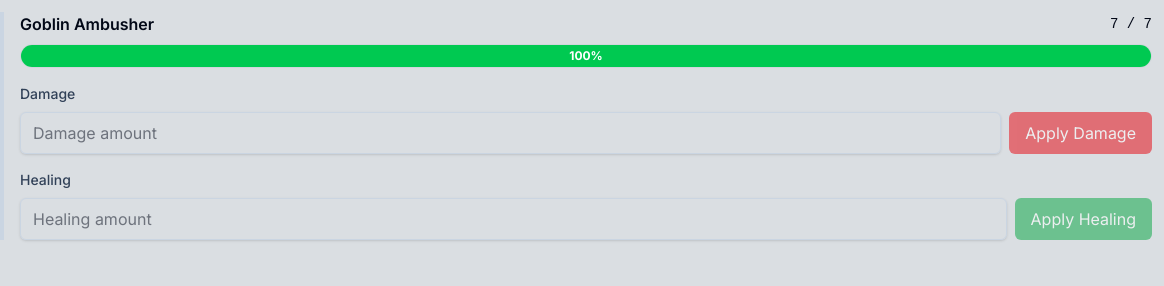
Test: HPTracker Component › Damage Input Validation › should show error for zero damage
Type "0" into the number field with placeholder "Damage amount" at (511, 133), box [20,112,1001,154]
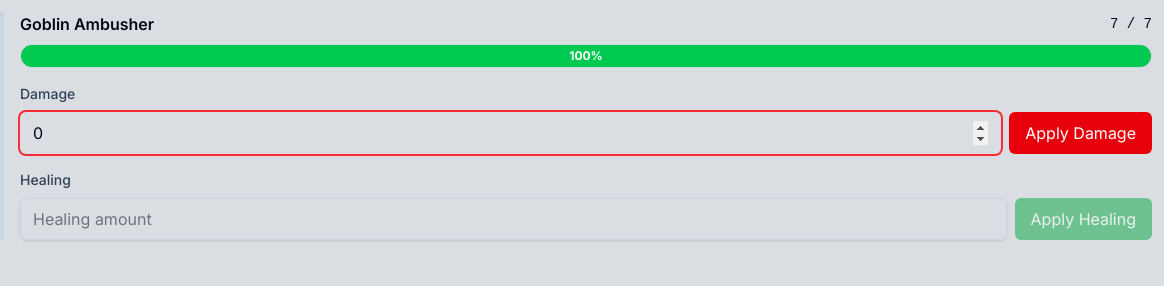
Click the button "Apply Damage" at (1081, 133), box [1009,112,1152,154]
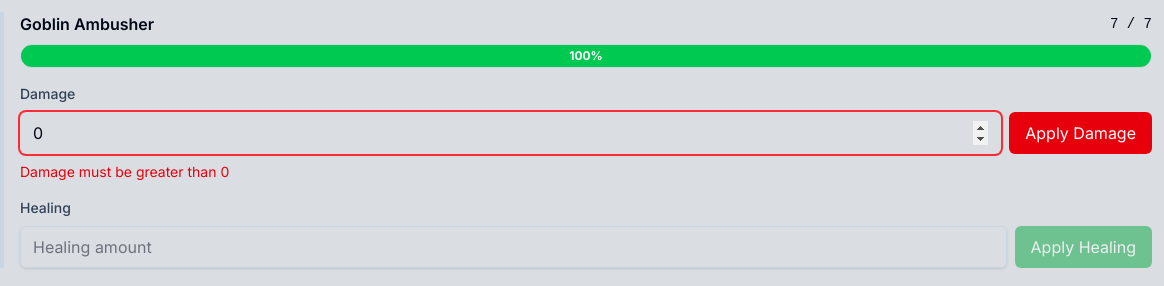
Now the text "Damage must be greater than 0" is shown, box [20,163,229,180]
